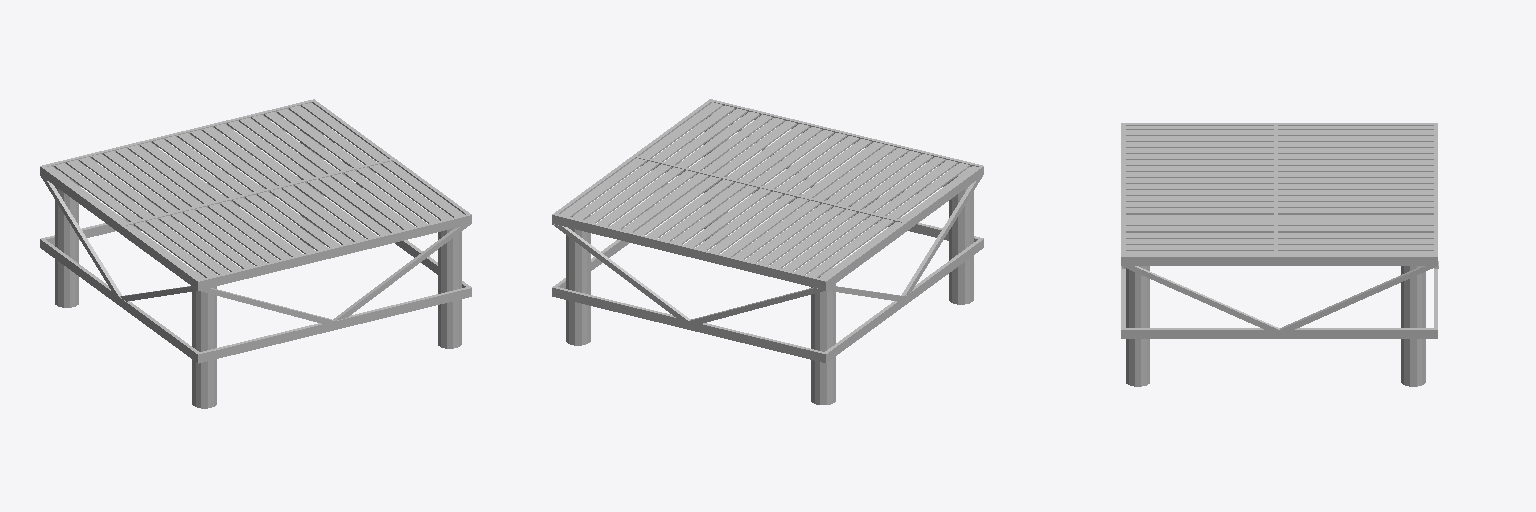
File: DockModule.obj
3 renders of one model, left to right at view 1: azimuth 30°, elevation 25°; view 2: azimuth 150°, elevation 25°; view 3: azimuth 270°, elevation 25°, orthographic.
Parts seen in each view (by area): view 1: DockModule; view 2: DockModule; view 3: DockModule.
Boxes of the visible parts, x1=… form: DockModule: x1=40, y1=99, x2=471, y2=408; DockModule: x1=552, y1=99, x2=983, y2=404; DockModule: x1=1121, y1=123, x2=1438, y2=386.
Bounding box in the file's own units: 197 × 89.87 × 197.